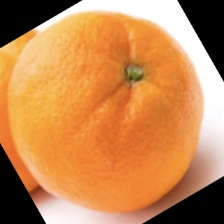orange: (8, 31, 197, 223)
